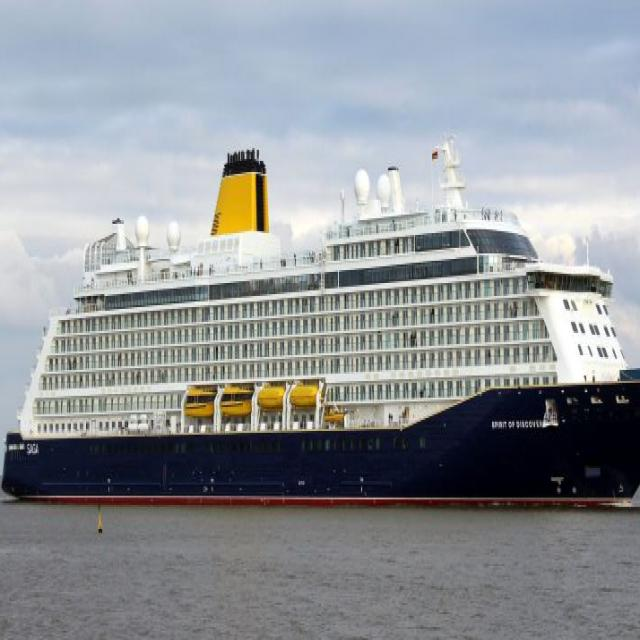cruises: (2, 127, 640, 521)
